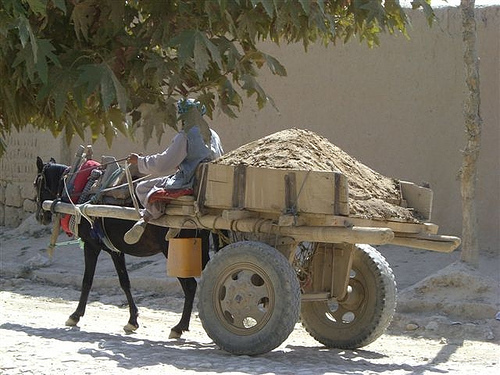horse: (31, 150, 229, 340)
